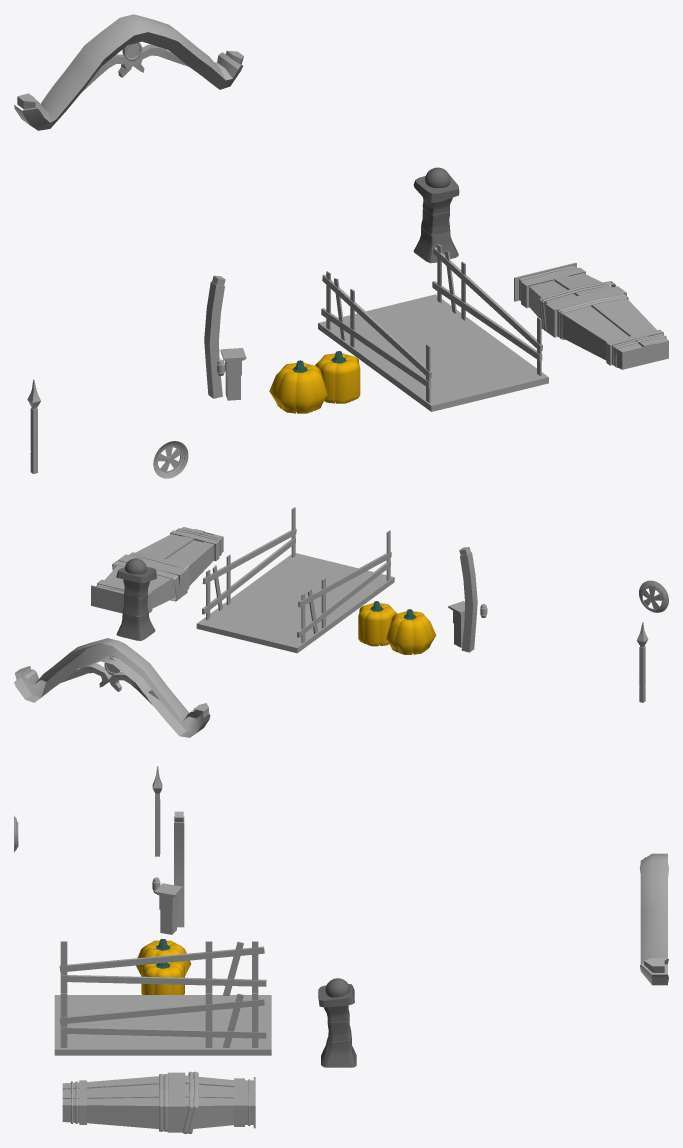
3 views of the same model, one above another, from view 1: azimuth 30°, elevation 25°; view 2: azimuth 150°, elevation 25°; view 3: azimuth 270°, elevation 25° (orthographic). The views are drawn at different scales.
Visible parts, largest first — view 1: my_old_tire:cart, coffin, my_old_tire:gat_top, my_old_tire:statue, my_old_tire:pumkins, my_old_tire:PUMKIN, my_old_tire:rod, my_old_tire:square_pillar, spike:pCube1; view 2: my_old_tire:cart, my_old_tire:gat_top, coffin, my_old_tire:statue, my_old_tire:pumkins, my_old_tire:rod, my_old_tire:PUMKIN, spike:pCube1, my_old_tire:square_pillar, my_old_tire:loftedSurface2; view 3: my_old_tire:cart, coffin, my_old_tire:gat_top, my_old_tire:statue, my_old_tire:rod, my_old_tire:PUMKIN, my_old_tire:square_pillar, my_old_tire:pumkins, spike:pCube1.
Boxes of the visible parts, x1=… form: my_old_tire:cart: x1=318, y1=244, x2=548, y2=411; coffin: x1=514, y1=262, x2=668, y2=369; my_old_tire:gat_top: x1=14, y1=14, x2=243, y2=130; my_old_tire:statue: x1=413, y1=167, x2=459, y2=263; my_old_tire:pumkins: x1=269, y1=360, x2=327, y2=413; my_old_tire:PUMKIN: x1=315, y1=351, x2=360, y2=403; my_old_tire:rod: x1=204, y1=275, x2=225, y2=398; my_old_tire:square_pillar: x1=220, y1=348, x2=246, y2=400; spike:pCube1: x1=27, y1=379, x2=40, y2=473; my_old_tire:cart: x1=196, y1=507, x2=394, y2=653; my_old_tire:gat_top: x1=14, y1=638, x2=210, y2=737; coffin: x1=91, y1=527, x2=223, y2=613; my_old_tire:statue: x1=116, y1=558, x2=156, y2=640; my_old_tire:pumkins: x1=386, y1=609, x2=436, y2=654; my_old_tire:rod: x1=459, y1=547, x2=477, y2=652; my_old_tire:PUMKIN: x1=358, y1=601, x2=396, y2=646; spike:pCube1: x1=636, y1=622, x2=648, y2=702; my_old_tire:square_pillar: x1=448, y1=601, x2=464, y2=647; my_old_tire:loftedSurface2: x1=639, y1=580, x2=668, y2=612; my_old_tire:cart: x1=54, y1=941, x2=271, y2=1055; coffin: x1=62, y1=1072, x2=255, y2=1132; my_old_tire:gat_top: x1=639, y1=853, x2=668, y2=985; my_old_tire:statue: x1=318, y1=978, x2=356, y2=1067; my_old_tire:rod: x1=174, y1=811, x2=184, y2=927; my_old_tire:PUMKIN: x1=141, y1=961, x2=184, y2=994; my_old_tire:square_pillar: x1=154, y1=883, x2=182, y2=934; my_old_tire:pumkins: x1=136, y1=939, x2=191, y2=975; spike:pCube1: x1=152, y1=766, x2=162, y2=856.
Bounding box in the file's own units: 29.65 × 8.17 × 29.1.
